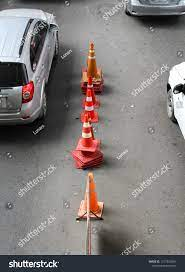car: (1, 8, 60, 125), (166, 62, 185, 142), (123, 1, 185, 21)
cone: (79, 41, 105, 89), (77, 114, 98, 165), (82, 173, 101, 215), (79, 92, 99, 123), (79, 77, 98, 106)
